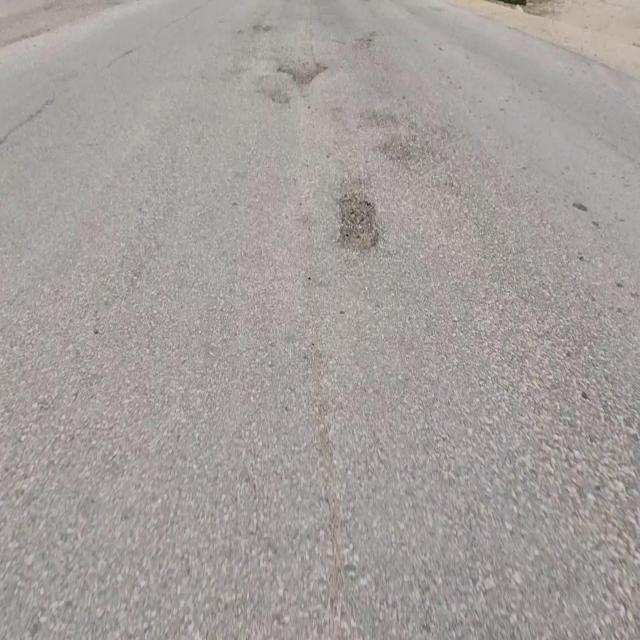Potholes: (338, 196, 381, 259), (278, 59, 329, 94)
